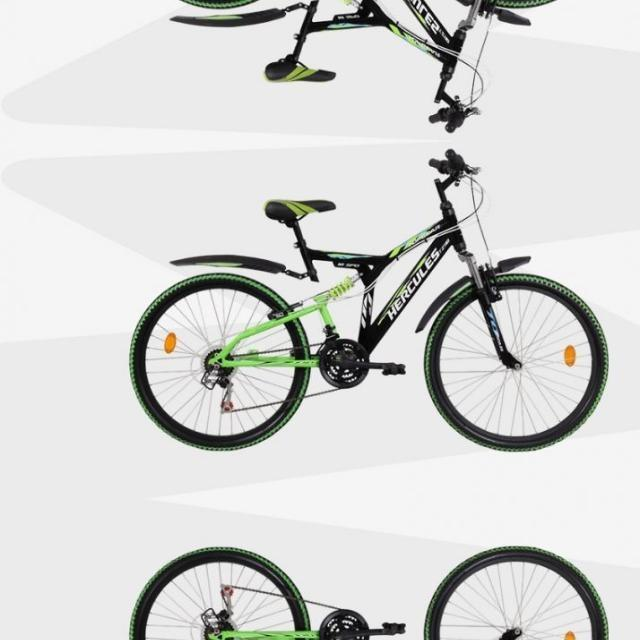obstacle: (100, 148, 636, 442), (100, 0, 635, 132), (100, 554, 635, 640)
